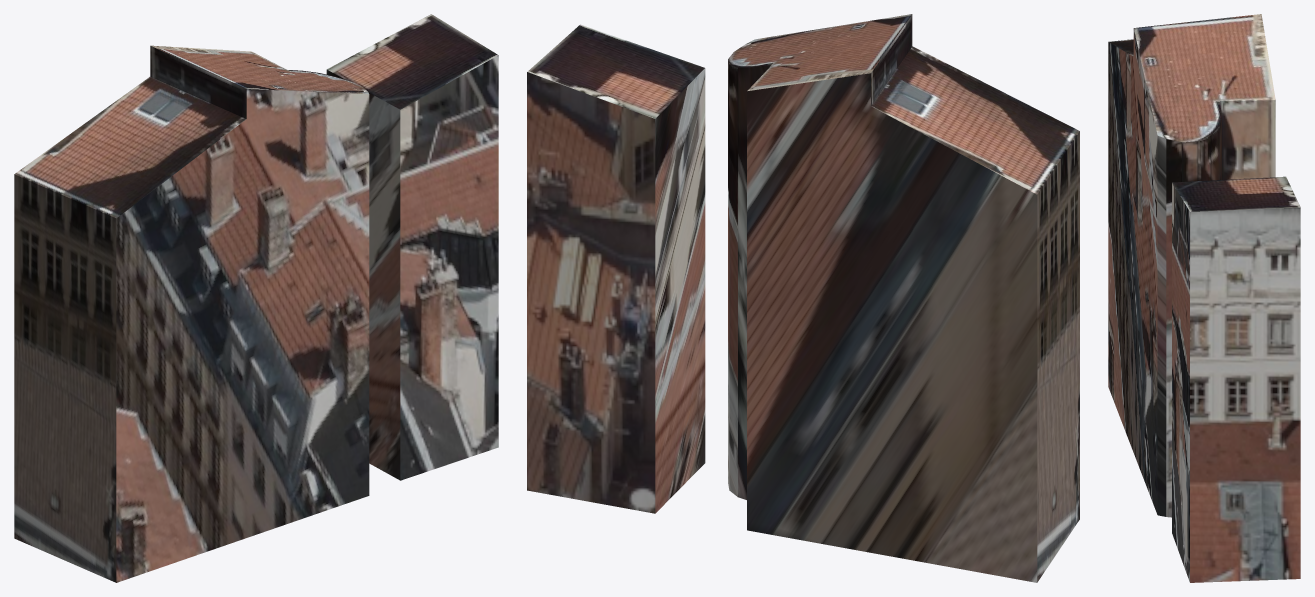
3 views of the same model, side by side, from view 1: azimuth 30°, elevation 25°; view 2: azimuth 150°, elevation 25°; view 3: azimuth 270°, elevation 25° (orthographic). The views are drawn at different scales.
Parts seen in each view (by area): view 1: Z_UP; view 2: Z_UP; view 3: Z_UP.
Part boxes in pixels (left/top/right/bottom): Z_UP: left=14, top=14, right=498, bottom=582; Z_UP: left=527, top=14, right=1079, bottom=582; Z_UP: left=1108, top=14, right=1300, bottom=582.
Size of the model in its own units: 23.98 by 22.59 by 9.26.
2 materials, 1 textured.
